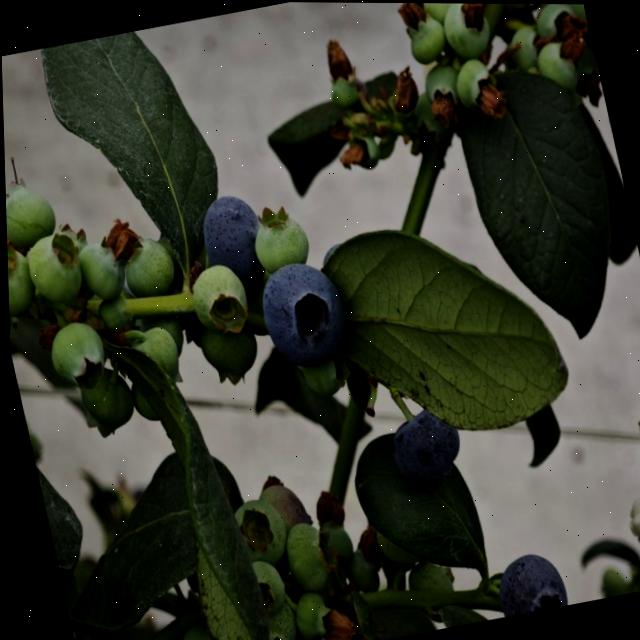RipeBlueBerry: (255, 257, 354, 373), (192, 188, 272, 292), (385, 403, 466, 489), (485, 547, 567, 617)
UnripeBlueBerry: (20, 229, 89, 306), (187, 261, 254, 340), (275, 517, 341, 596), (43, 318, 108, 395), (246, 202, 313, 276), (196, 322, 263, 388), (4, 177, 61, 252), (73, 233, 130, 308), (117, 231, 178, 299), (229, 495, 288, 565), (439, 3, 495, 63), (451, 56, 502, 118), (401, 2, 450, 66)
